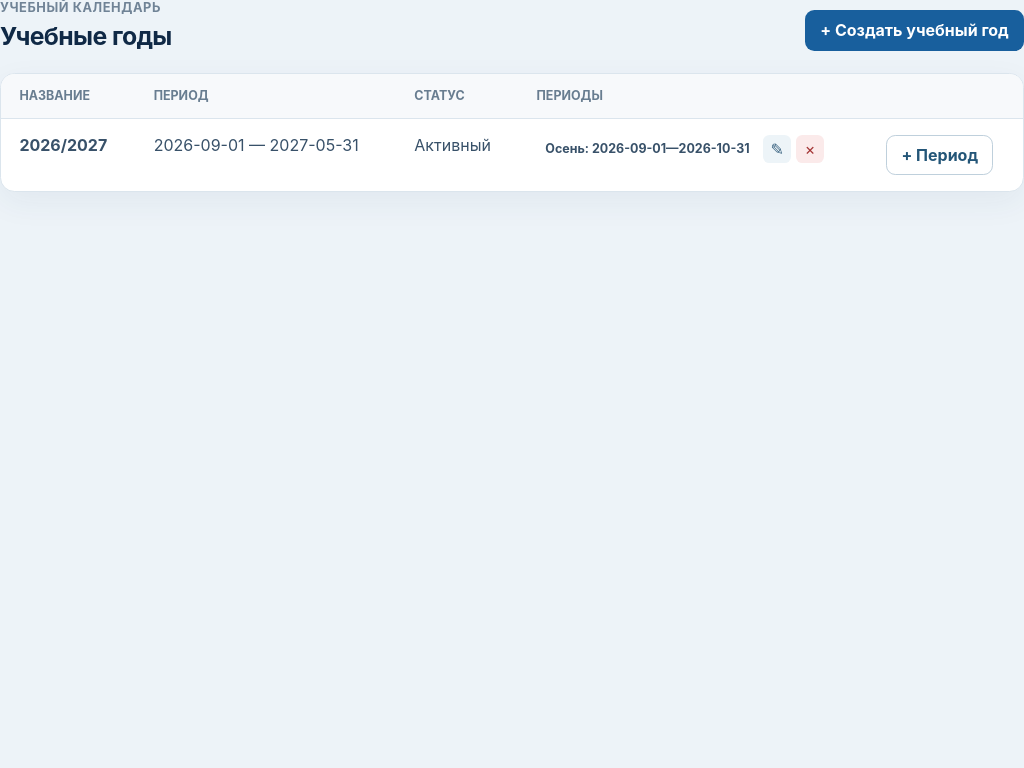
it: academic years › edits and deletes an academic period
The width and height of the screenshot is (1024, 768).
Click the button named "Редактировать период Осень" at (777, 149), box [763,135,791,163]
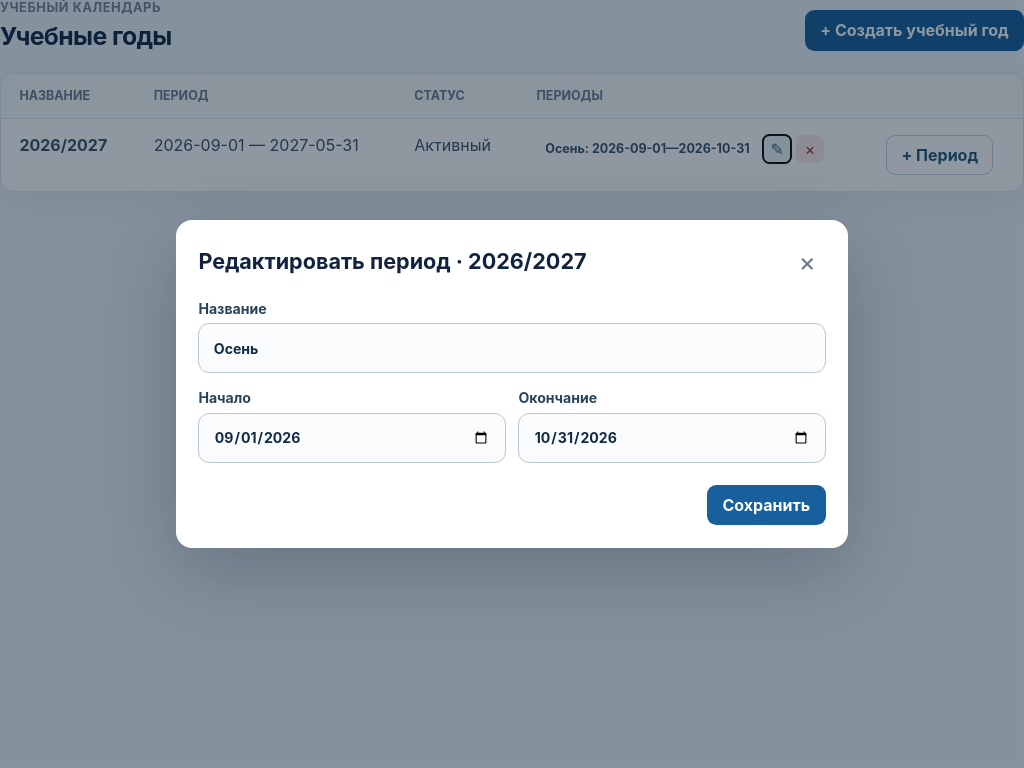
Replace the text in the field named "Название периода" with "Первый период" at (512, 348), box [198,323,826,373]
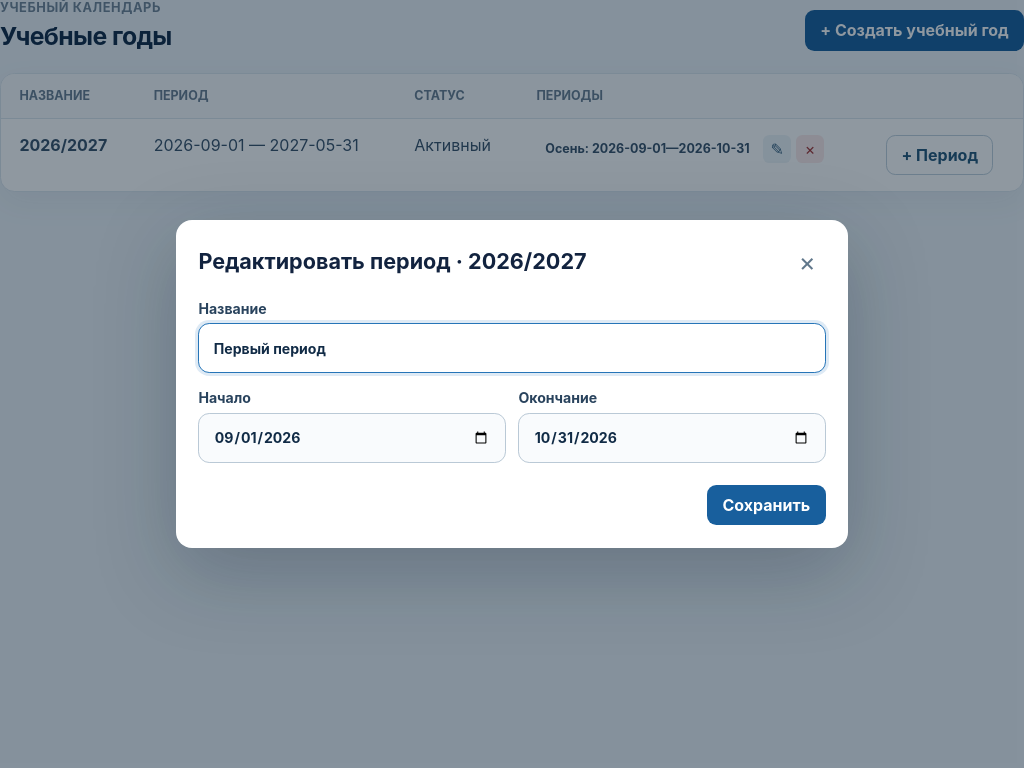
Type "2026-11-01" into the date field labelled "Окончание" at (672, 438), box [518,413,826,463]
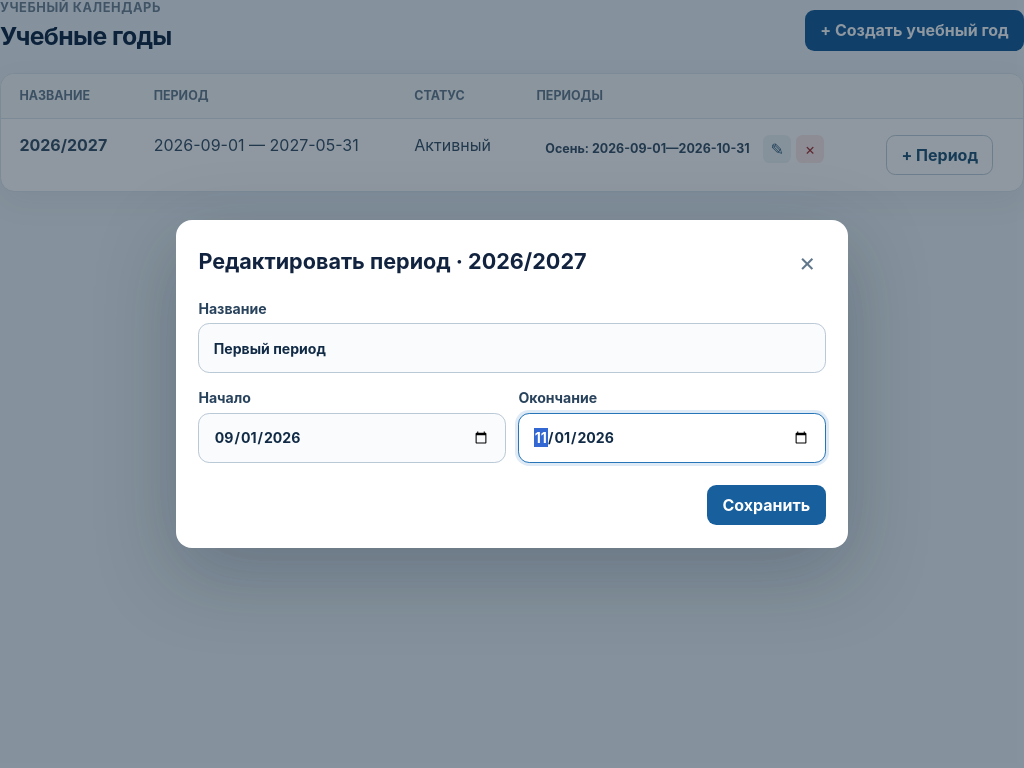
Click the button "Сохранить" at (766, 505), box [707,485,826,525]
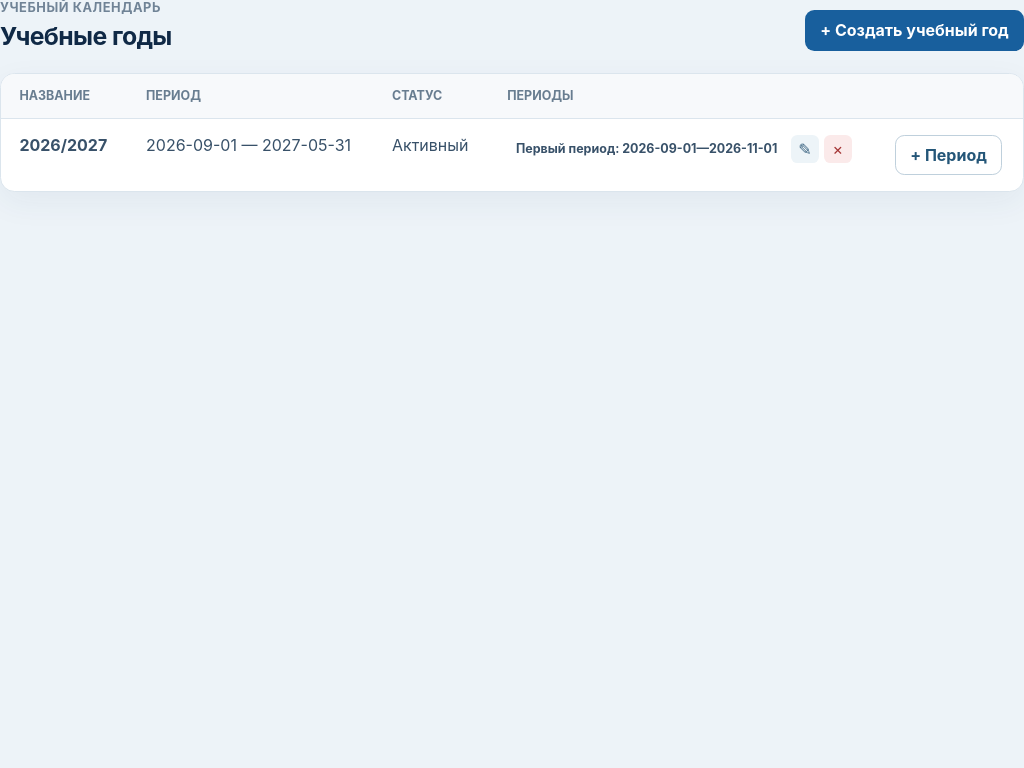
Result: the text "Первый период: 2026-09-01—2026-11-01" is shown at [507,136,786,161]
Click the button named "Удалить период Первый период" at (838, 149), box [824,135,852,163]
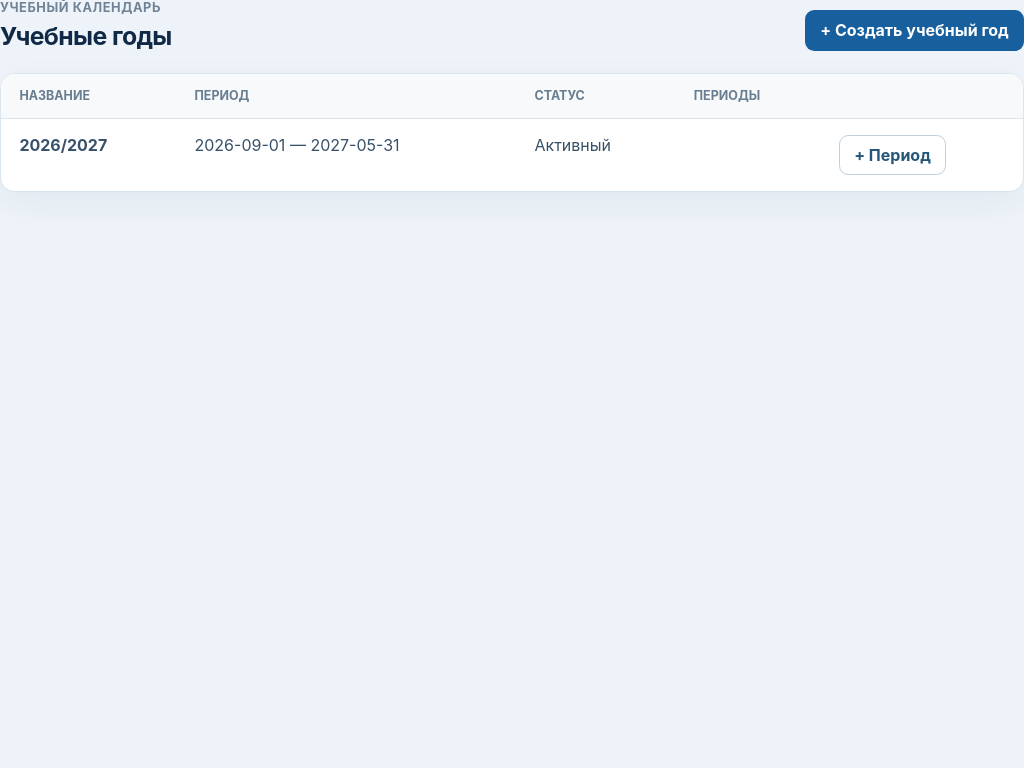
Result: the text "Первый период:" is gone
